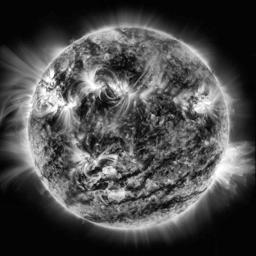solar flares: (38, 89, 77, 111), (69, 148, 96, 171), (192, 94, 212, 117), (109, 82, 131, 99), (82, 77, 102, 95), (102, 187, 129, 199)
sunspots: (45, 117, 60, 169), (108, 55, 136, 79), (55, 70, 77, 94), (154, 98, 178, 119), (84, 134, 120, 147), (137, 109, 147, 155), (136, 203, 177, 211), (94, 96, 112, 114), (202, 120, 215, 138), (81, 102, 93, 120)
